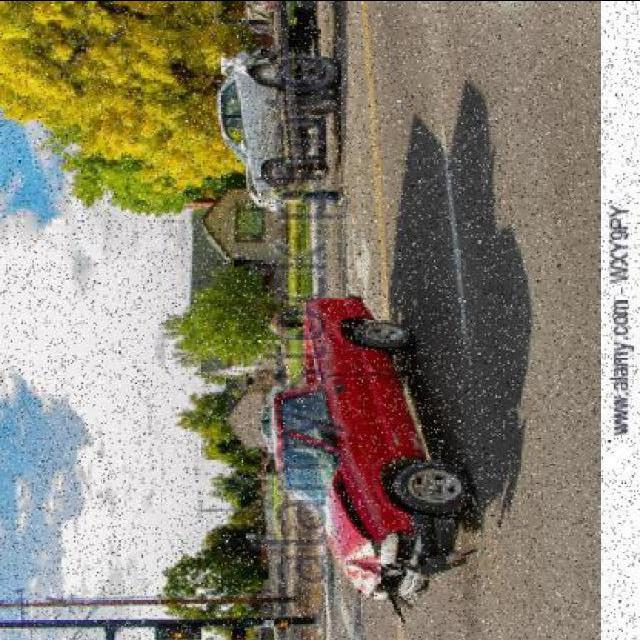bonnet-dent: (331, 472, 371, 589)
front-bumper-dent: (374, 530, 428, 608)
